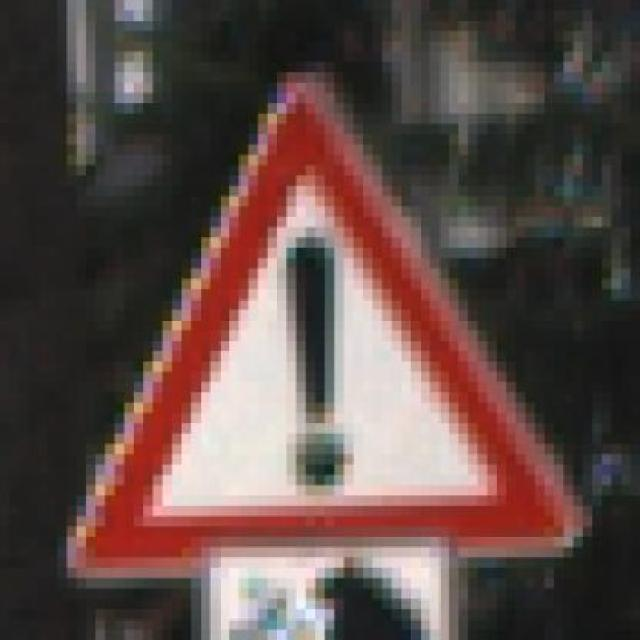Attention Please-: (67, 61, 602, 598)
